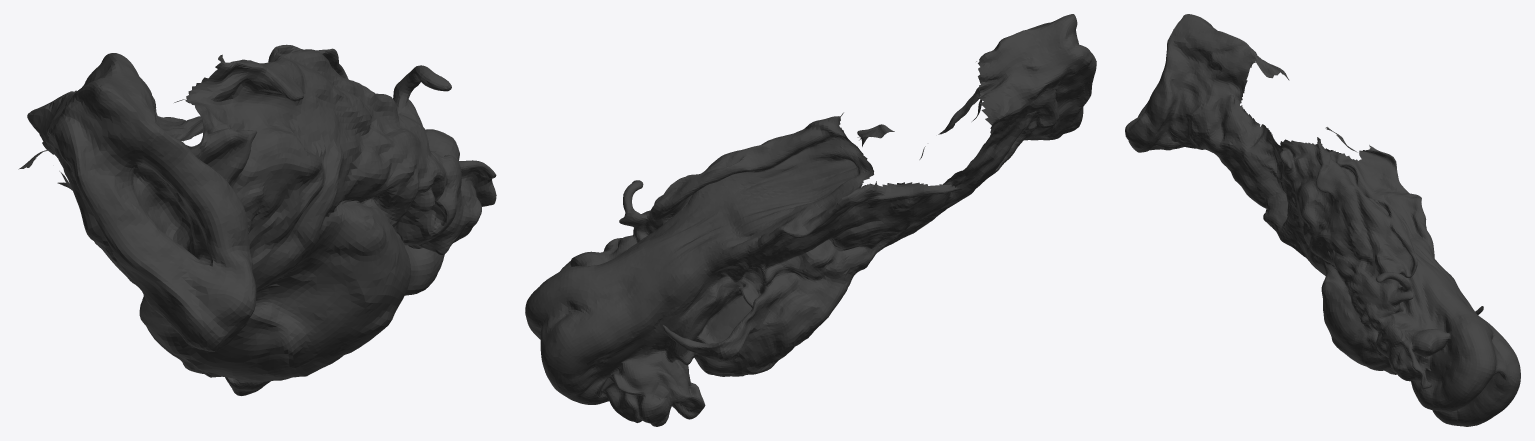
3 renders of one model, left to right at view 1: azimuth 30°, elevation 25°; view 2: azimuth 150°, elevation 25°; view 3: azimuth 270°, elevation 25°, orthographic. The views are drawn at different scales.
Visible parts, largest first — view 1: Group50499; view 2: Group50499; view 3: Group50499.
Boxes of the visible parts, left/top/right/bottom form: Group50499: left=18, top=44, right=496, bottom=395; Group50499: left=525, top=14, right=1096, bottom=426; Group50499: left=1125, top=14, right=1520, bottom=426.
Bounding box in the file's own units: 0.341 × 0.2899 × 0.3534.
1 material, 1 textured.
